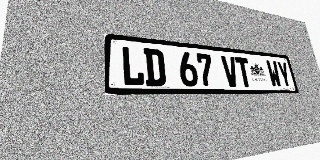6: (178, 51, 199, 87)
7: (195, 53, 215, 87)
D: (143, 48, 166, 86)
L: (121, 46, 145, 86)
T: (235, 57, 253, 87)
V: (221, 56, 240, 87)
W: (266, 60, 282, 87)
Y: (276, 61, 292, 88)
